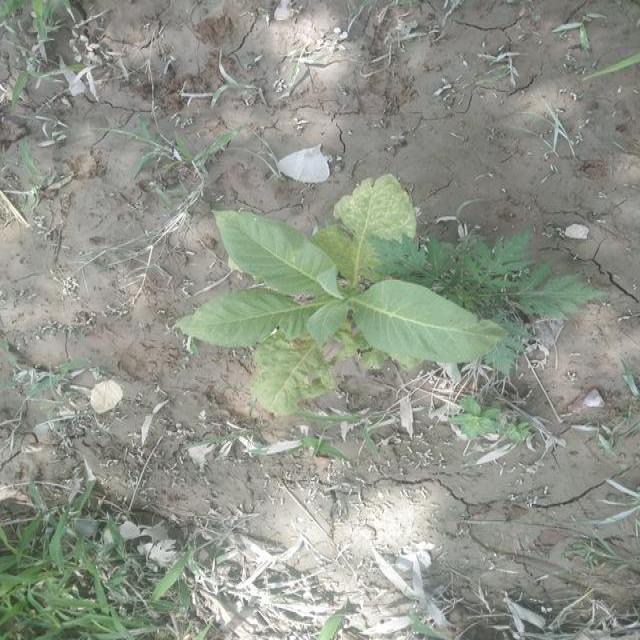crop: (175, 165, 510, 407)
